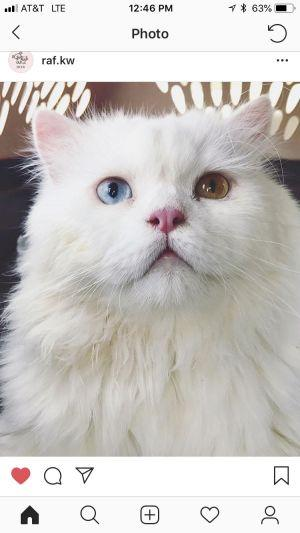persian: (29, 88, 287, 329)
